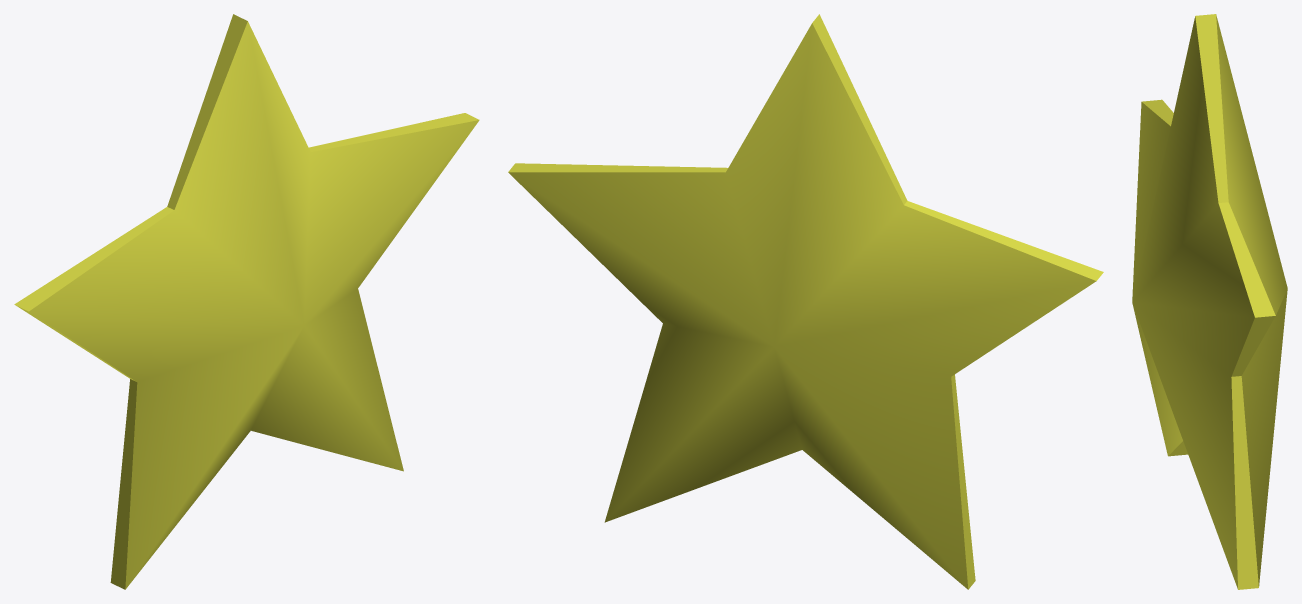
The model's file is star.fbx.
3 renders of one model, left to right at view 1: azimuth 30°, elevation 25°; view 2: azimuth 150°, elevation 25°; view 3: azimuth 270°, elevation 25°, orthographic. The views are drawn at different scales.
Visible parts, largest first — view 1: pCylinder1; view 2: pCylinder1; view 3: pCylinder1.
Part boxes in pixels (x1,y1,x2,y2): pCylinder1: [14, 14, 479, 589]; pCylinder1: [508, 14, 1103, 589]; pCylinder1: [1132, 14, 1287, 589].
Bounding box in the file's own units: 1.88 × 1.83 × 0.512.
